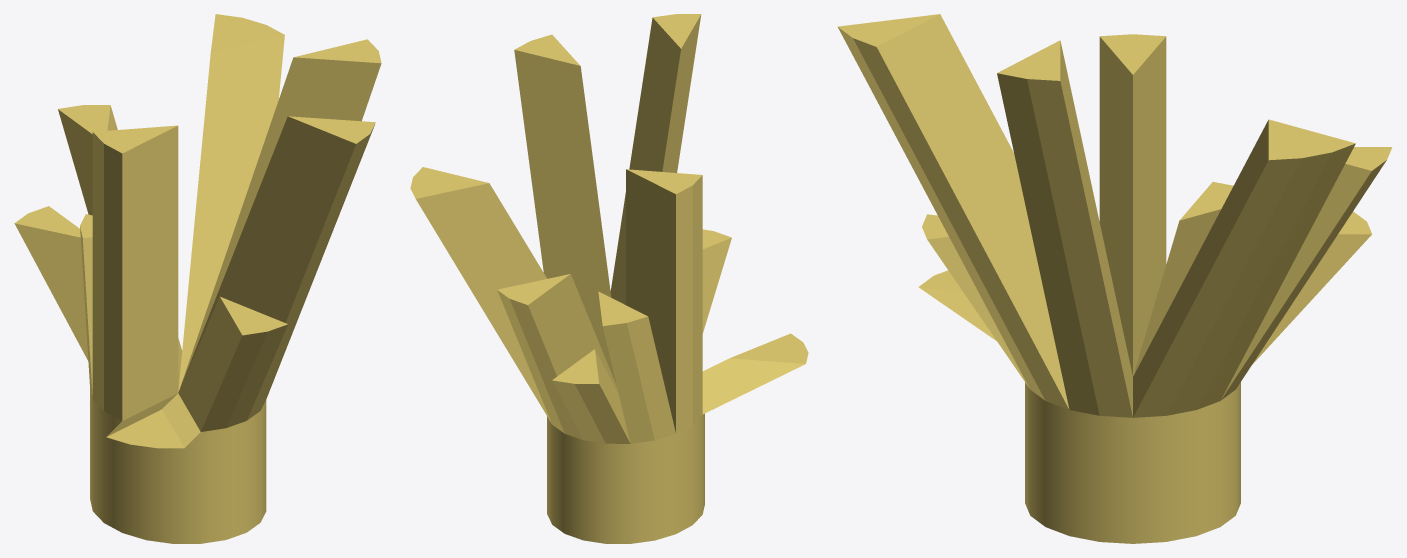
Rendered from corail_pique (1).fbx.
3 views of the same model, side by side, from view 1: azimuth 30°, elevation 25°; view 2: azimuth 150°, elevation 25°; view 3: azimuth 270°, elevation 25° (orthographic). The views are drawn at different scales.
Visible parts, largest first — view 1: corail_PIQUE; view 2: corail_PIQUE; view 3: corail_PIQUE.
Boxes of the visible parts, x1,y1,x2,y2 form: corail_PIQUE: [14, 14, 381, 543]; corail_PIQUE: [410, 14, 808, 543]; corail_PIQUE: [838, 14, 1392, 543].
Bounding box in the file's own units: 0.782 × 1.11 × 1.1.
